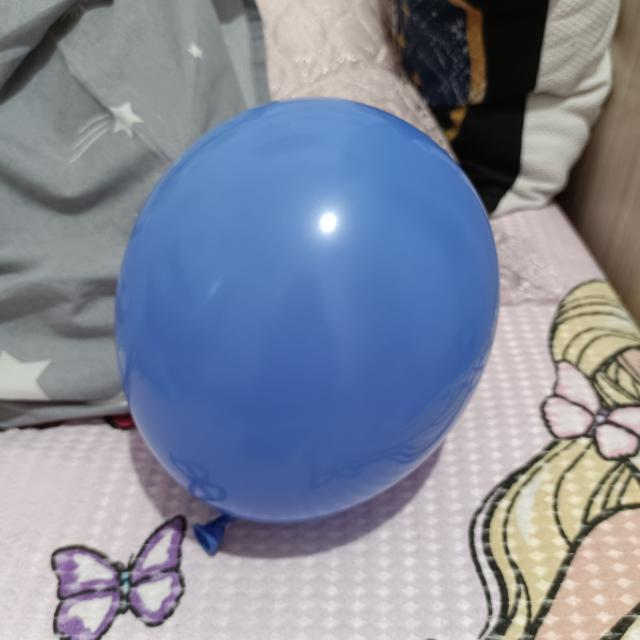blue: (117, 96, 501, 553)
